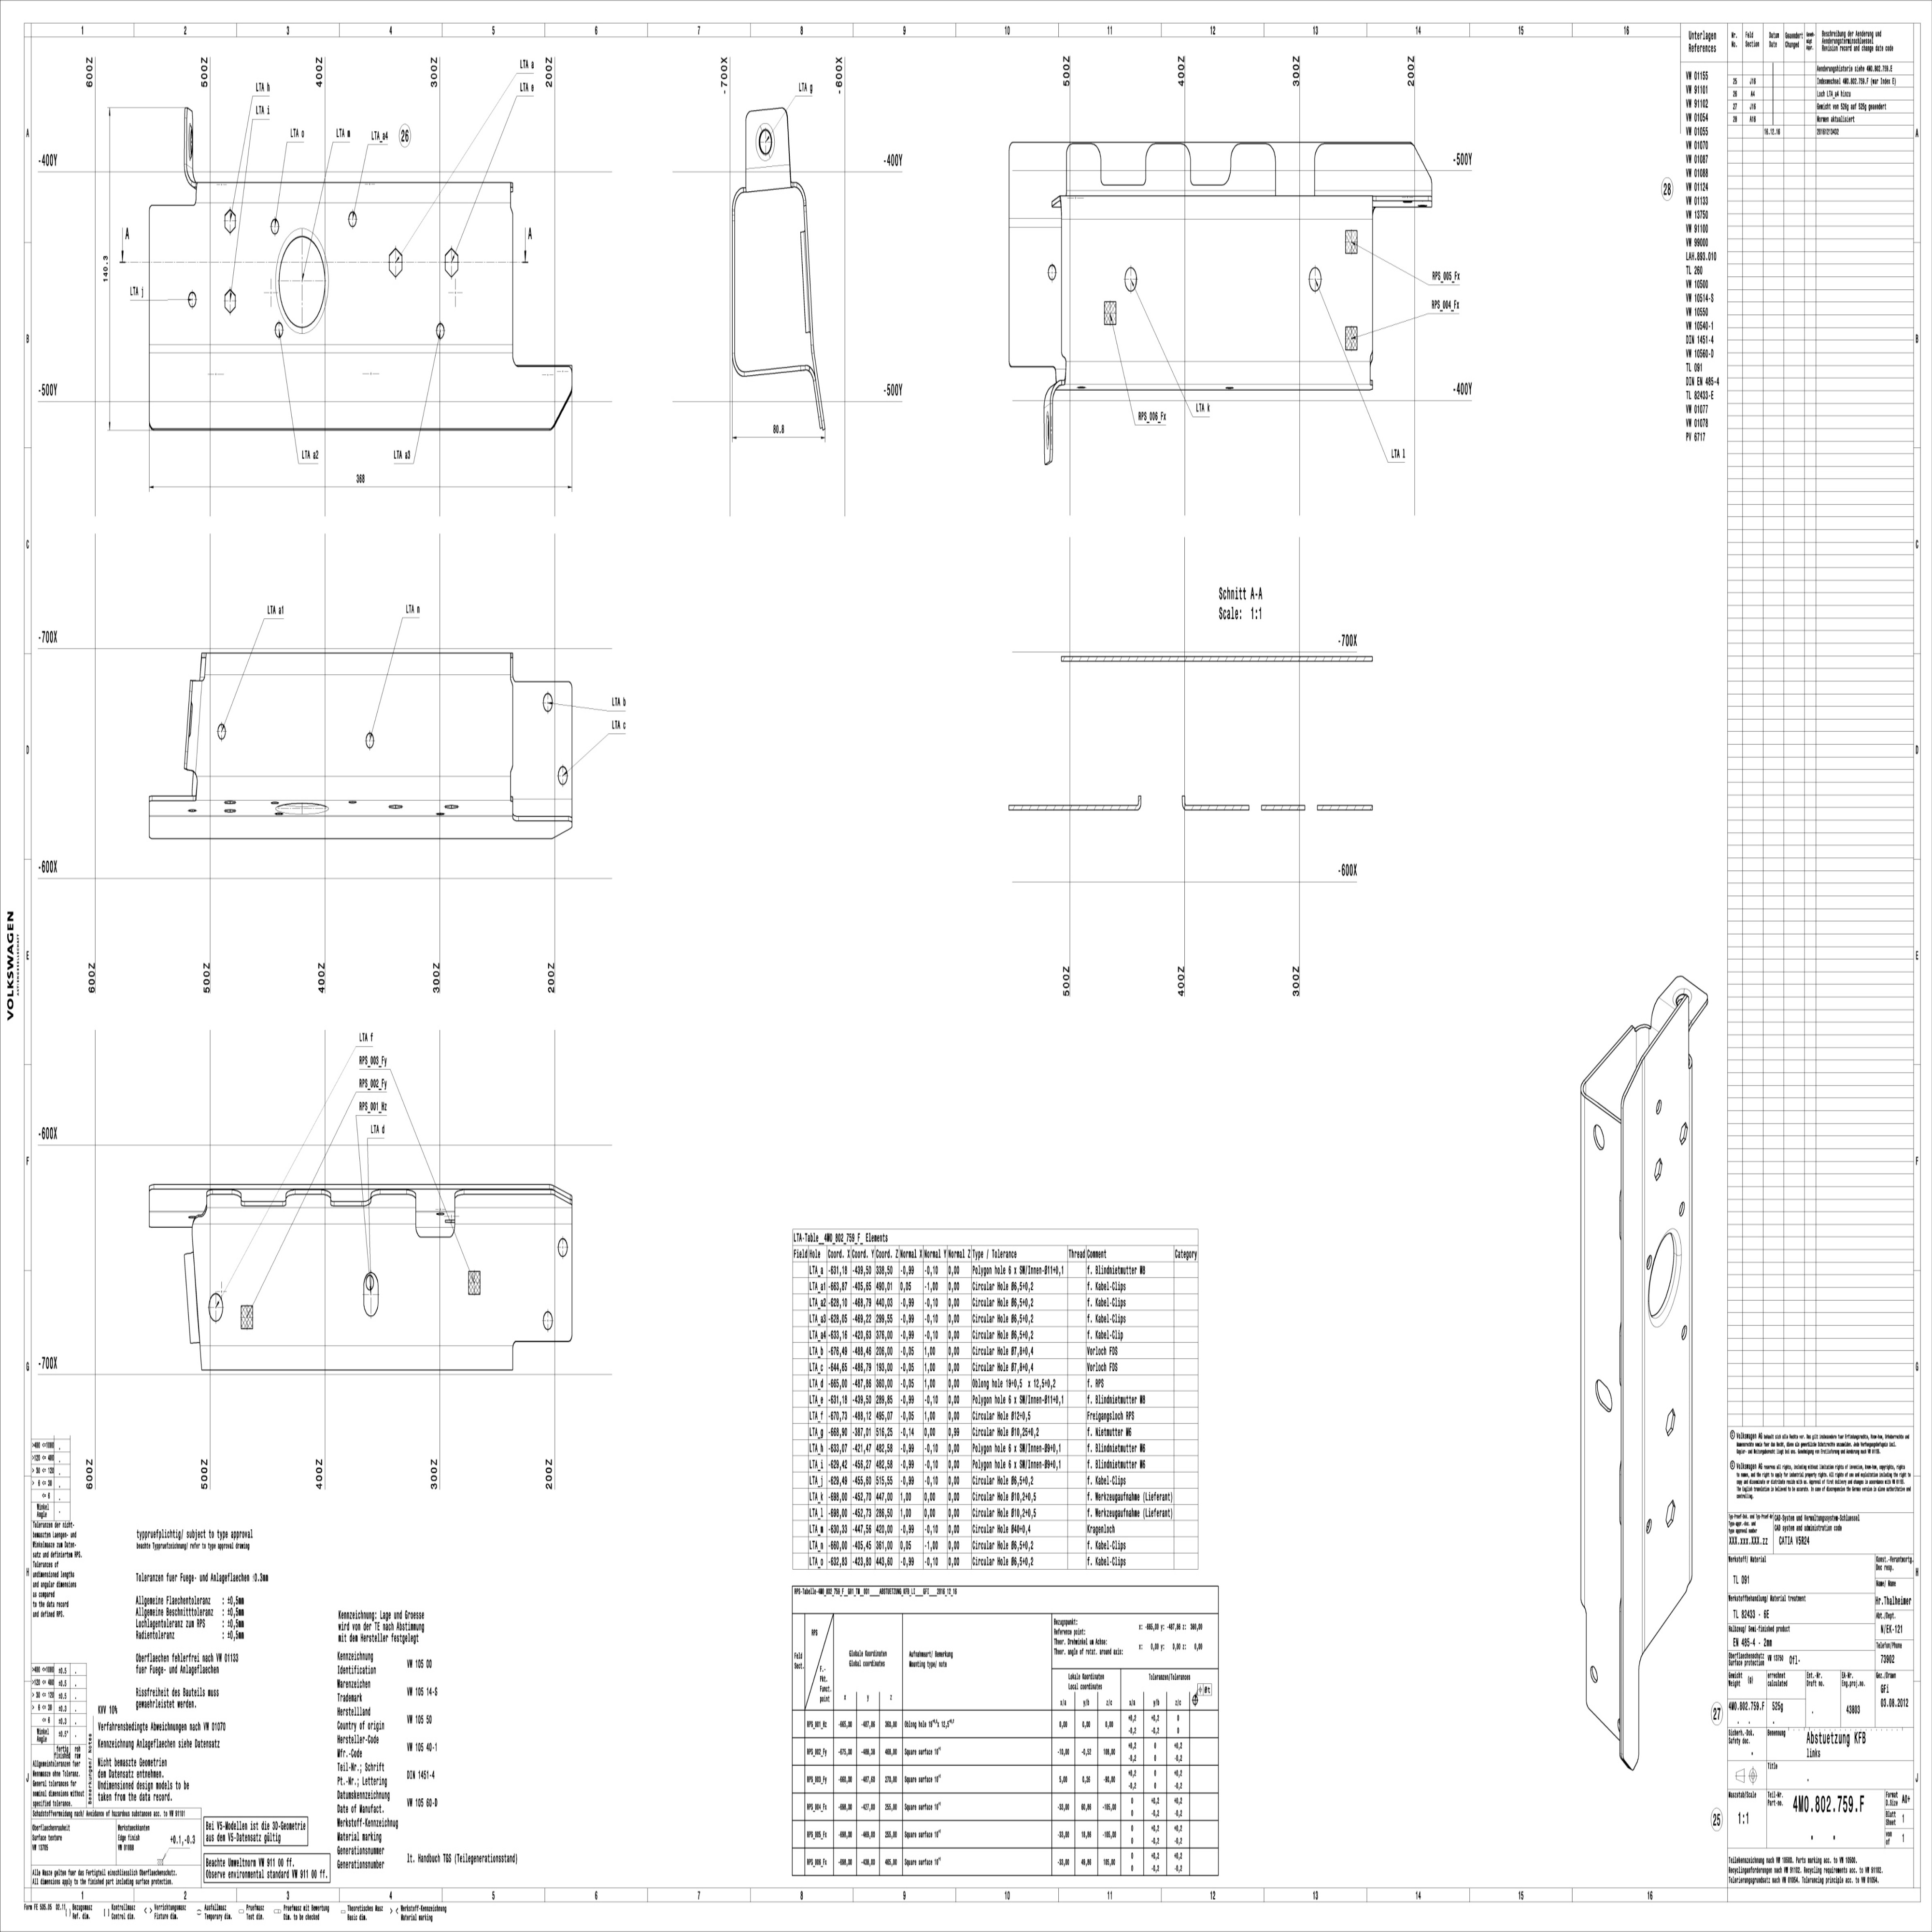BendingEdge: (1067, 361, 1371, 389), (200, 1207, 571, 1228), (200, 1345, 513, 1369), (1062, 196, 1375, 221), (202, 653, 513, 676), (198, 186, 510, 203), (149, 341, 513, 356), (1578, 1097, 1587, 1603), (1640, 1069, 1647, 1645), (1688, 1069, 1695, 1578), (149, 812, 513, 819), (1644, 993, 1677, 1030)
BendingEdgeCurve: (1047, 379, 1065, 405), (729, 359, 748, 380), (184, 163, 198, 189), (796, 179, 807, 200), (803, 359, 814, 379), (731, 189, 743, 205)
InnerContour: (1585, 1375, 1622, 1414), (359, 1270, 386, 1318), (1587, 1122, 1610, 1152), (205, 1292, 225, 1322), (1306, 264, 1323, 294), (1122, 264, 1138, 294), (1044, 262, 1058, 283), (540, 1309, 554, 1330), (541, 690, 554, 713), (556, 1235, 568, 1258), (1589, 1663, 1601, 1684), (267, 218, 281, 235), (345, 211, 359, 228), (186, 290, 200, 308), (557, 764, 568, 786), (363, 731, 375, 748), (216, 722, 226, 741), (272, 322, 285, 338), (435, 322, 446, 338), (1677, 1201, 1688, 1217), (1654, 1099, 1663, 1115), (1681, 1323, 1688, 1343), (1645, 1253, 1652, 1270), (186, 809, 198, 814), (347, 800, 357, 805)
InnerContourAngular: (386, 246, 405, 278), (442, 248, 460, 278), (221, 207, 239, 235), (1663, 1497, 1677, 1530), (1663, 1407, 1677, 1437), (221, 288, 237, 313), (1651, 1157, 1665, 1182), (1679, 1120, 1688, 1146), (442, 803, 460, 810), (387, 803, 403, 810), (221, 807, 237, 814), (221, 798, 237, 805)
Notch: (1092, 142, 1154, 188), (1180, 143, 1238, 186), (412, 1191, 456, 1240), (237, 1191, 288, 1208), (327, 1191, 373, 1208)
ThroughHole: (274, 226, 329, 334), (1642, 1224, 1688, 1330), (754, 122, 777, 163), (274, 801, 329, 814), (1672, 987, 1693, 1008)
ThroughHoleExternal: (188, 120, 195, 161), (1044, 410, 1051, 449), (188, 702, 195, 738)
